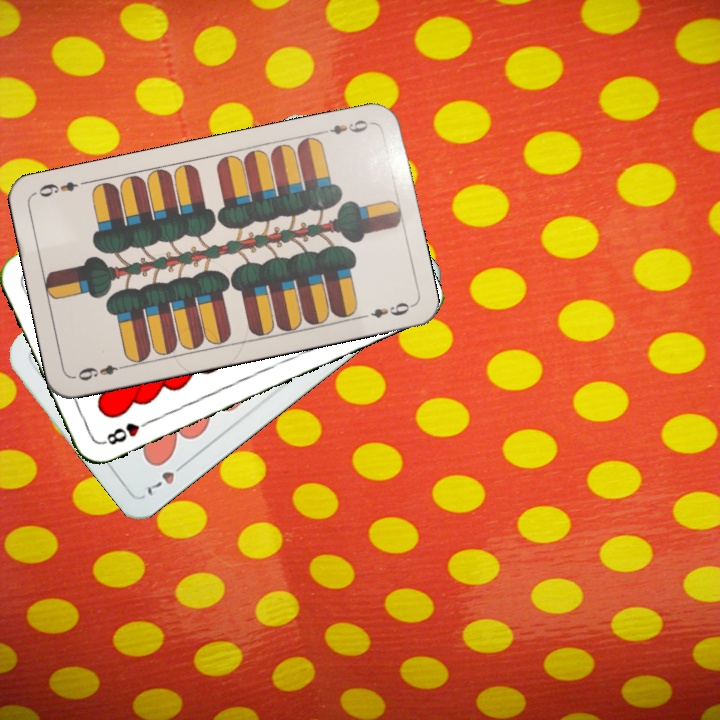E9: (316, 115, 375, 138), (71, 360, 129, 383)
H7: (142, 456, 191, 499)
H8: (99, 415, 155, 448)
